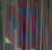No Stopping: (2, 3, 51, 49)
